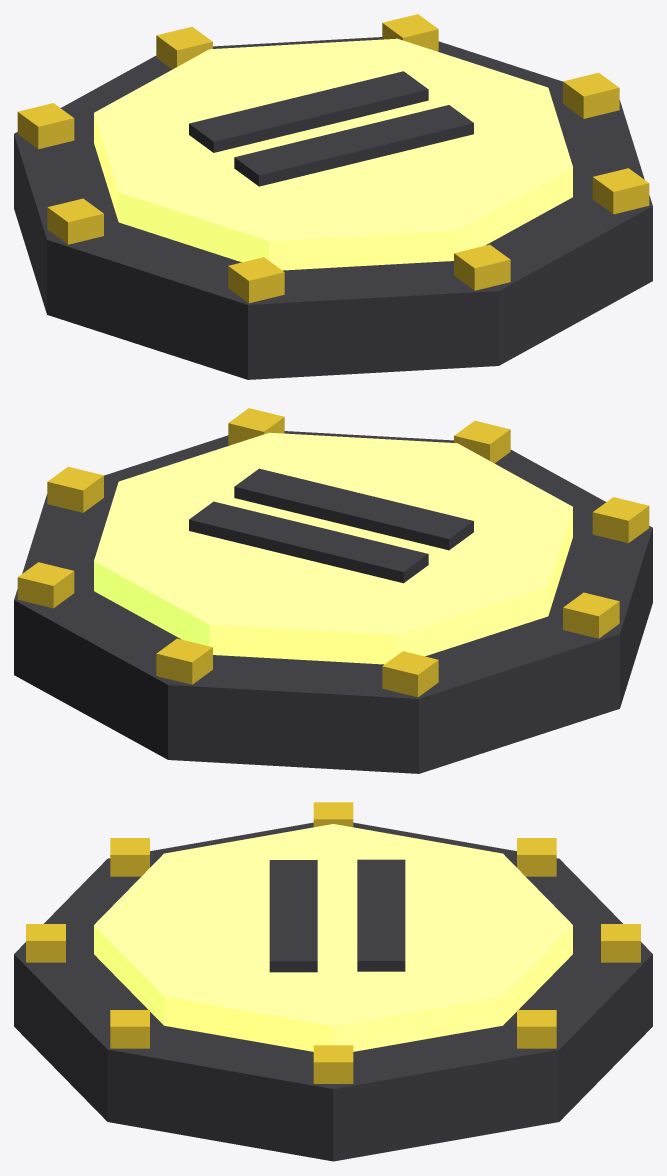
File: jump_pad.glb
3 renders of one model, top to bottom at view 1: azimuth 30°, elevation 25°; view 2: azimuth 150°, elevation 25°; view 3: azimuth 270°, elevation 25°, orthographic. The views are drawn at different scales.
Parts seen in each view (by area): view 1: PadBase, PadTop; view 2: PadBase, PadTop; view 3: PadBase, PadTop.
Boxes of the visible parts, <box> form: PadBase: <box>14,14,652,379</box>; PadTop: <box>94,38,572,270</box>; PadBase: <box>14,408,652,773</box>; PadTop: <box>94,432,572,664</box>; PadBase: <box>14,802,652,1161</box>; PadTop: <box>94,824,572,1051</box>.
Size of the model in its own units: 1.6 by 0.321 by 1.6.
